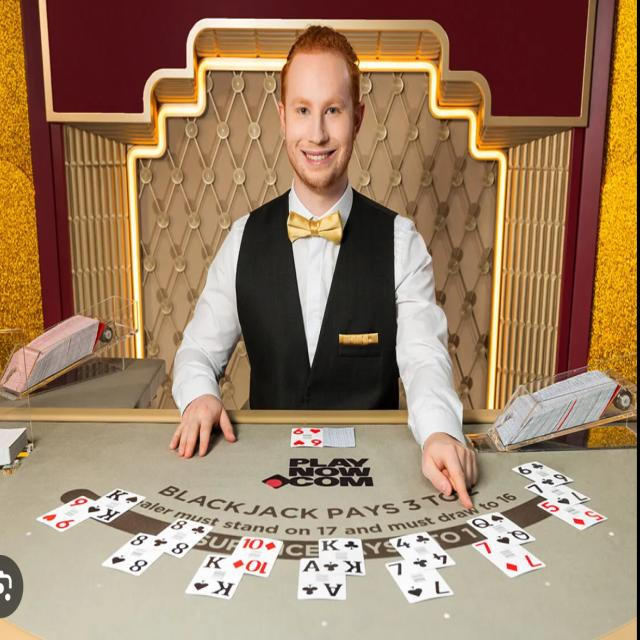Card-10: (230, 536, 282, 575)
Card-4: (390, 530, 455, 569)
Card-5: (539, 500, 606, 532)
Card-6: (512, 461, 572, 486), (291, 425, 323, 447)
Card-7: (474, 536, 546, 579), (385, 560, 453, 604), (525, 482, 587, 504)
Card-8: (102, 528, 164, 577), (153, 516, 213, 557)
Card-9: (34, 494, 94, 533)
Card-A: (298, 556, 346, 598)
Card-K: (186, 553, 242, 598), (83, 487, 144, 524), (319, 540, 363, 574)
Card-Q: (466, 510, 533, 547)
